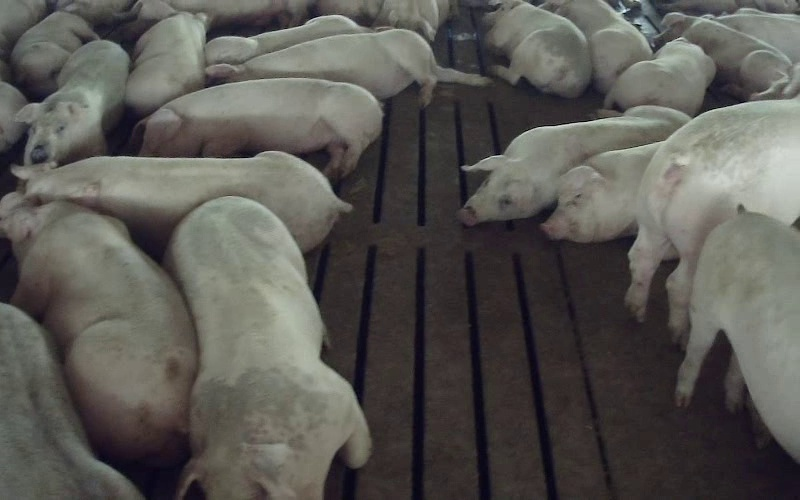pig: (165, 197, 370, 499), (625, 100, 799, 341), (676, 211, 799, 462), (458, 106, 689, 225), (206, 29, 488, 104), (16, 40, 128, 164), (541, 143, 659, 242), (656, 13, 791, 98), (541, 0, 652, 93), (604, 38, 715, 116), (107, 0, 311, 42), (125, 12, 206, 116), (205, 15, 371, 64), (11, 12, 98, 98)
